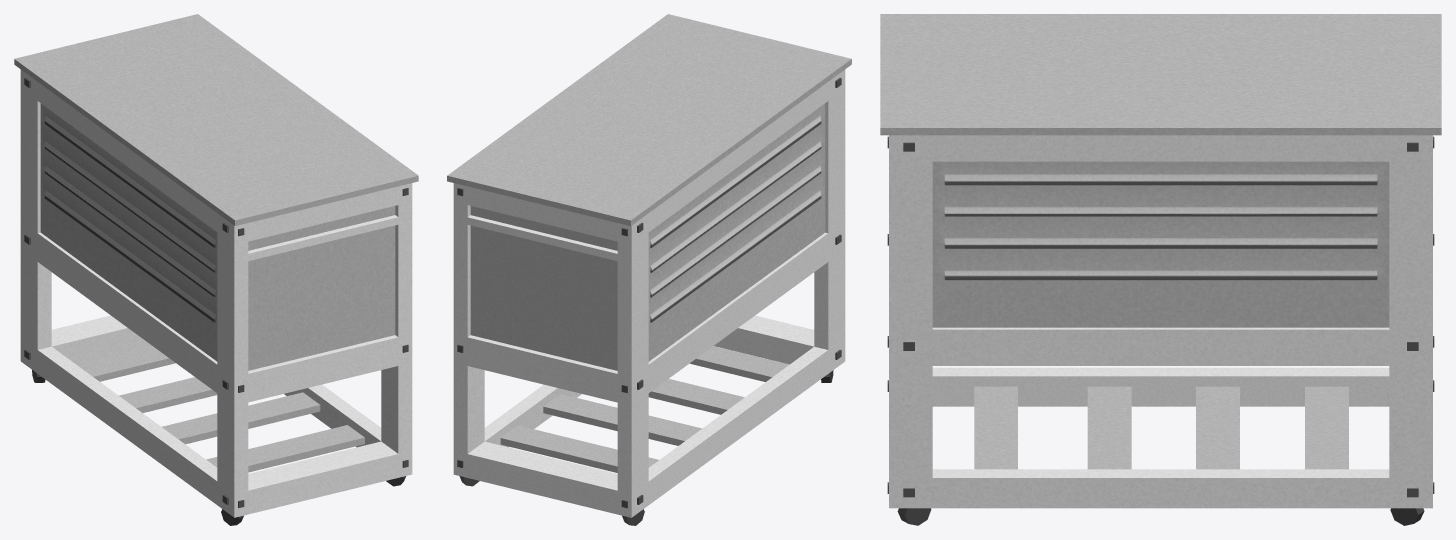
File: RS_mobile_table.fbx
3 renders of one model, left to right at view 1: azimuth 30°, elevation 25°; view 2: azimuth 150°, elevation 25°; view 3: azimuth 270°, elevation 25°, orthographic. The views are drawn at different scales.
Visible parts, largest first — view 1: RS_mobile_table; view 2: RS_mobile_table; view 3: RS_mobile_table.
Part boxes in pixels (x1,y1,x2,y2): RS_mobile_table: (14,14,418,525); RS_mobile_table: (447,14,851,525); RS_mobile_table: (880,14,1441,525).
Size of the model in its own units: 57.38 by 94.44 by 119.
